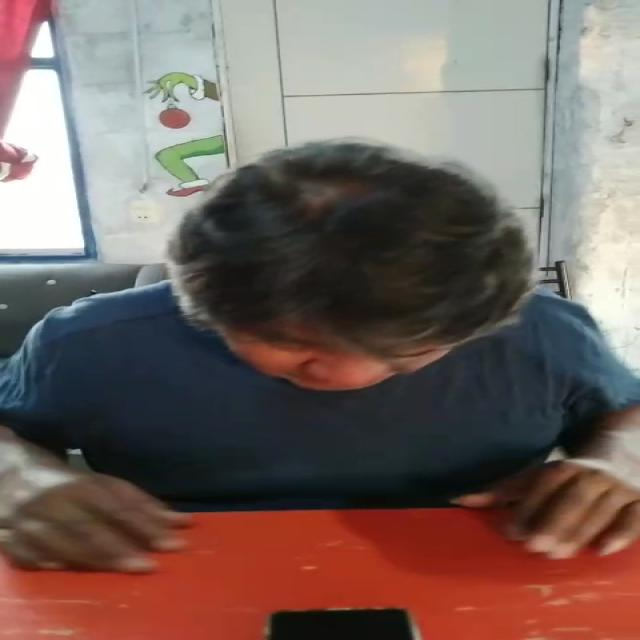9_cabeza_baja: (173, 142, 527, 392)
